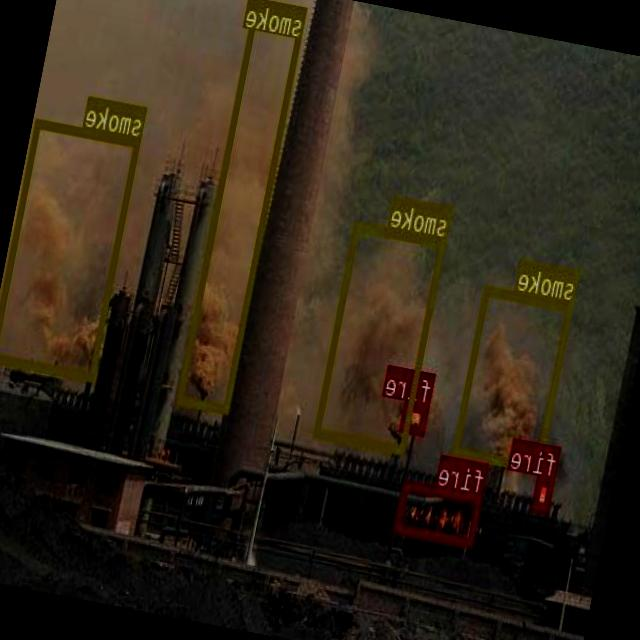fire: (396, 480, 483, 546), (401, 400, 431, 435), (533, 475, 556, 513)
smoke: (178, 0, 308, 412), (0, 117, 143, 380), (316, 220, 448, 452), (454, 286, 574, 472)
